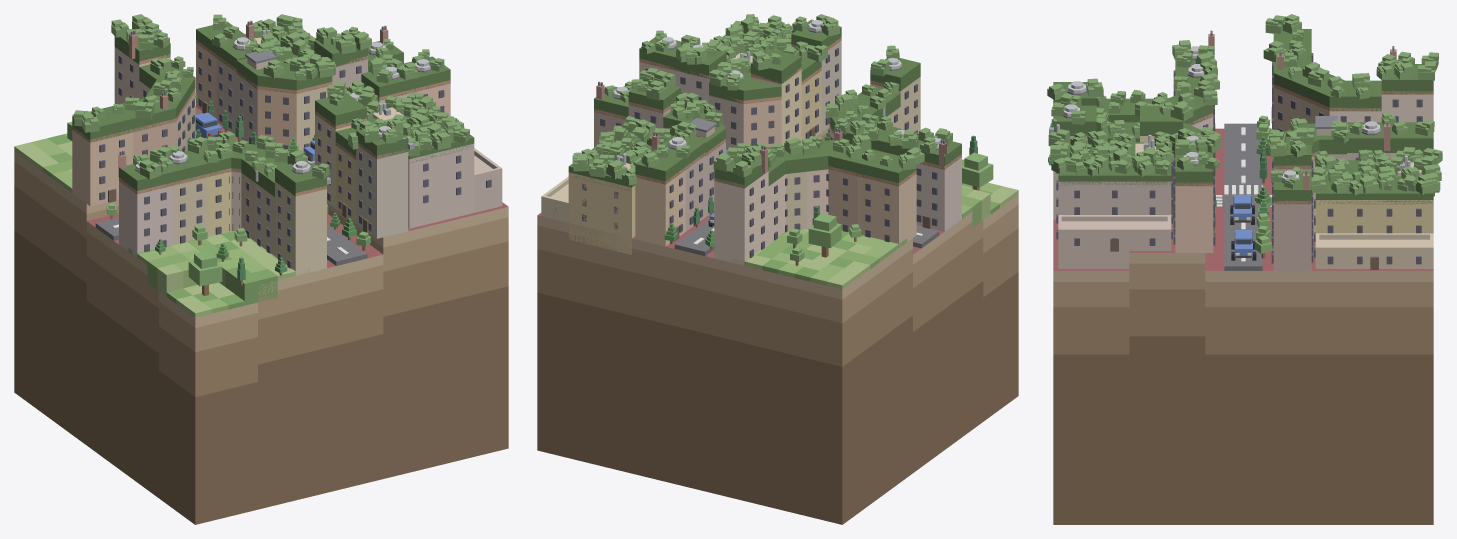
The model's file is block_19_greenroof_55.glb.
3 views of the same model, side by side, from view 1: azimuth 30°, elevation 25°; view 2: azimuth 150°, elevation 25°; view 3: azimuth 270°, elevation 25° (orthographic). The views are drawn at different scales.
Parts seen in each view (by area): view 1: Patch_MidRight_b19_GR, Cerda_MidRight_b19_GR, GR_Roof_Cerda_MidRight_b19_GR, Green_MidRight_b19_GR, Insets_MidRight_b19_GR, CerdaRoofProps_MidRight_b19_GR, Roads_MidRight_b19_GR, Asset_Tree_Round.077_GR; view 2: Patch_MidRight_b19_GR, Cerda_MidRight_b19_GR, GR_Roof_Cerda_MidRight_b19_GR, Green_MidRight_b19_GR, Insets_MidRight_b19_GR, CerdaRoofProps_MidRight_b19_GR, Roads_MidRight_b19_GR, Asset_Tree_Round.065_GR, Asset_Tree_Round.077_GR; view 3: Patch_MidRight_b19_GR, Insets_MidRight_b19_GR, GR_Roof_Cerda_MidRight_b19_GR, Cerda_MidRight_b19_GR, Roads_MidRight_b19_GR, GR_Roof_Insets_MidRight_b19_GR, CerdaRoofProps_MidRight_b19_GR, Asset_Car.041_GR, Asset_Car.042_GR.
Part boxes in pixels (x1,y1,x2,y2): Patch_MidRight_b19_GR: (14, 106, 508, 524); Cerda_MidRight_b19_GR: (72, 40, 450, 275); GR_Roof_Cerda_MidRight_b19_GR: (72, 21, 450, 196); Green_MidRight_b19_GR: (14, 133, 310, 317); Insets_MidRight_b19_GR: (254, 33, 502, 228); CerdaRoofProps_MidRight_b19_GR: (118, 20, 431, 184); Roads_MidRight_b19_GR: (95, 111, 367, 265); Asset_Tree_Round.077_GR: (188, 250, 222, 295); Patch_MidRight_b19_GR: (537, 127, 1018, 524); Cerda_MidRight_b19_GR: (594, 37, 961, 265); GR_Roof_Cerda_MidRight_b19_GR: (594, 19, 961, 188); Green_MidRight_b19_GR: (731, 159, 1018, 289); Insets_MidRight_b19_GR: (541, 53, 753, 254); CerdaRoofProps_MidRight_b19_GR: (596, 20, 946, 173); Roads_MidRight_b19_GR: (674, 219, 939, 255); Asset_Tree_Round.065_GR: (808, 213, 841, 257); Asset_Tree_Round.077_GR: (962, 152, 993, 190); Patch_MidRight_b19_GR: (1053, 128, 1433, 524); Insets_MidRight_b19_GR: (1056, 143, 1433, 269); GR_Roof_Cerda_MidRight_b19_GR: (1053, 29, 1433, 204); Cerda_MidRight_b19_GR: (1053, 53, 1433, 270); Roads_MidRight_b19_GR: (1216, 123, 1262, 270); GR_Roof_Insets_MidRight_b19_GR: (1058, 142, 1433, 204); CerdaRoofProps_MidRight_b19_GR: (1049, 30, 1410, 188); Asset_Car.041_GR: (1230, 194, 1254, 224); Asset_Car.042_GR: (1231, 230, 1256, 260).
Size of the model in its own units: 9.74 by 10.16 by 9.87.
